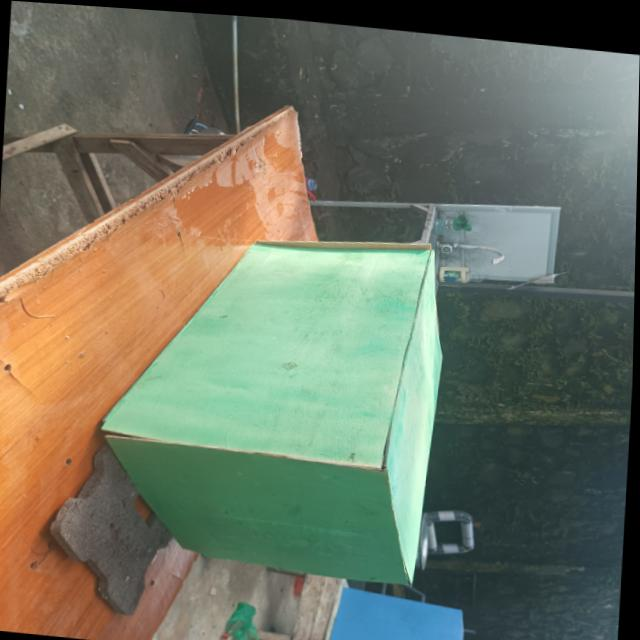green_box: (106, 211, 448, 589)
